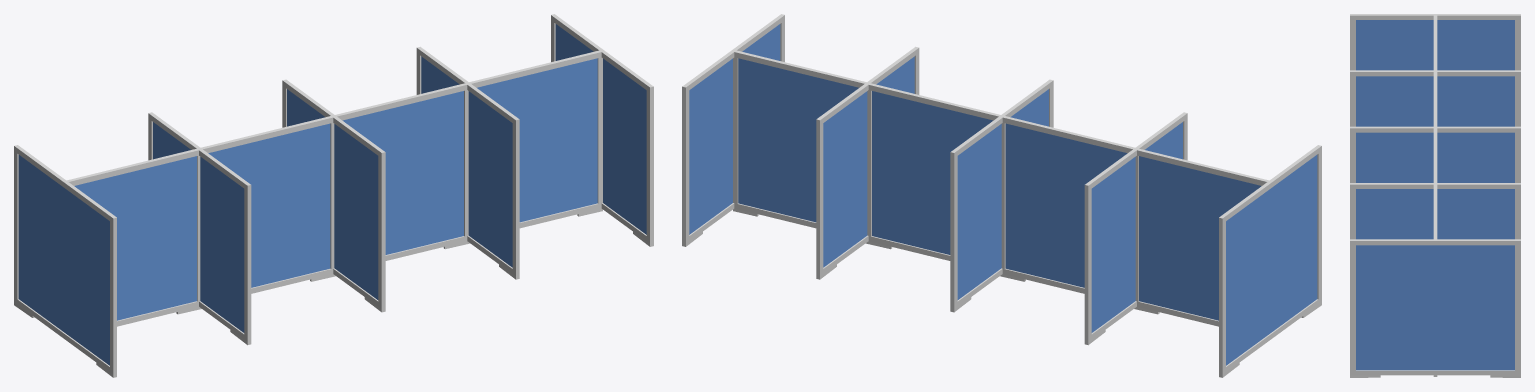
File: partition.fbx
3 views of the same model, side by side, from view 1: azimuth 30°, elevation 25°; view 2: azimuth 150°, elevation 25°; view 3: azimuth 270°, elevation 25° (orthographic). The views are drawn at different scales.
Visible parts, largest first — view 1: Cube.001; view 2: Cube.001; view 3: Cube.001.
Part boxes in pixels (x1,y1,x2,y2): Cube.001: (14,14,653,377); Cube.001: (682,14,1321,377); Cube.001: (1350,14,1520,377).
Size of the model in its own units: 578 by 163 by 184.
